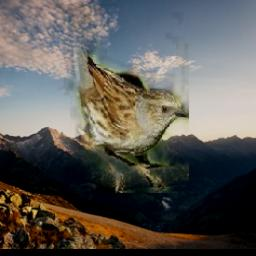Sparrow: (57, 4, 189, 193)
